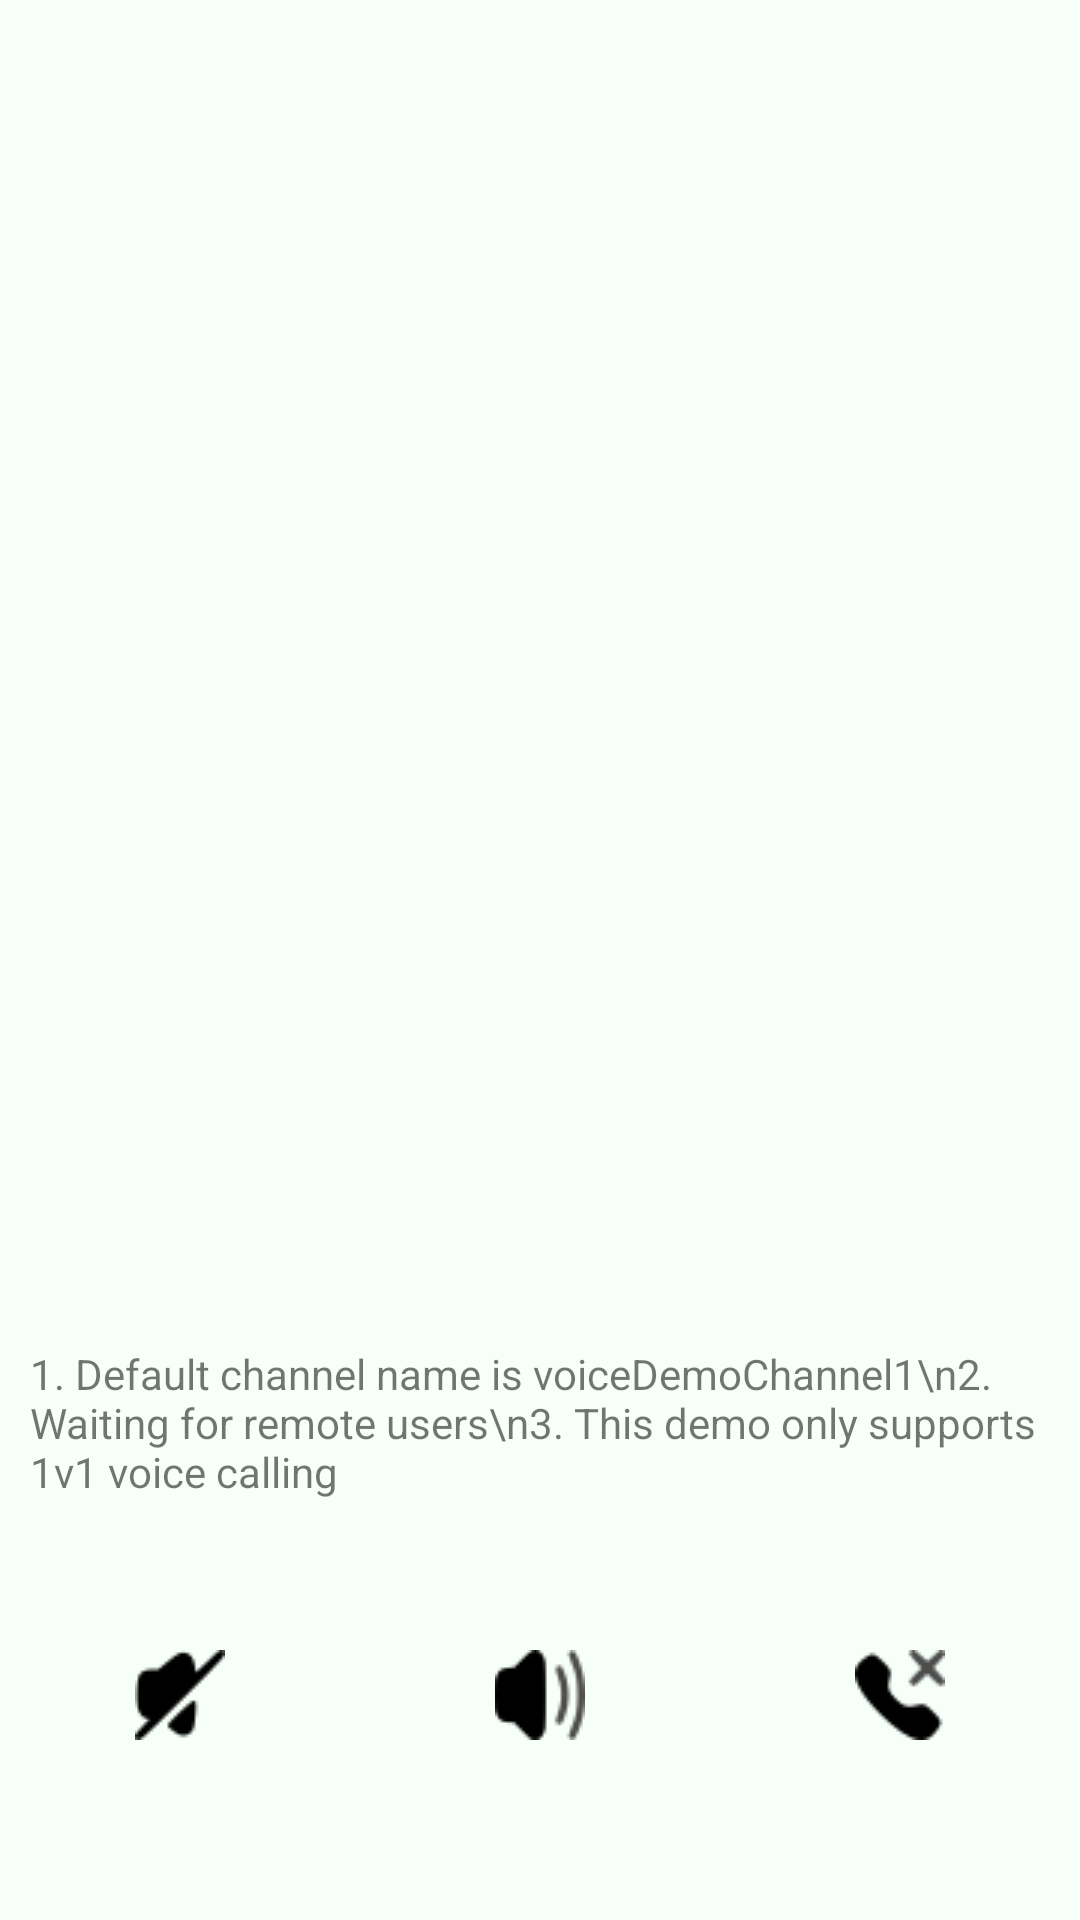

Icons on this 1080px x 1920px Android screen, each with the point to tap as (x=x, y=y):
loud: (x=540, y=1695)
mute: (x=180, y=1695)
